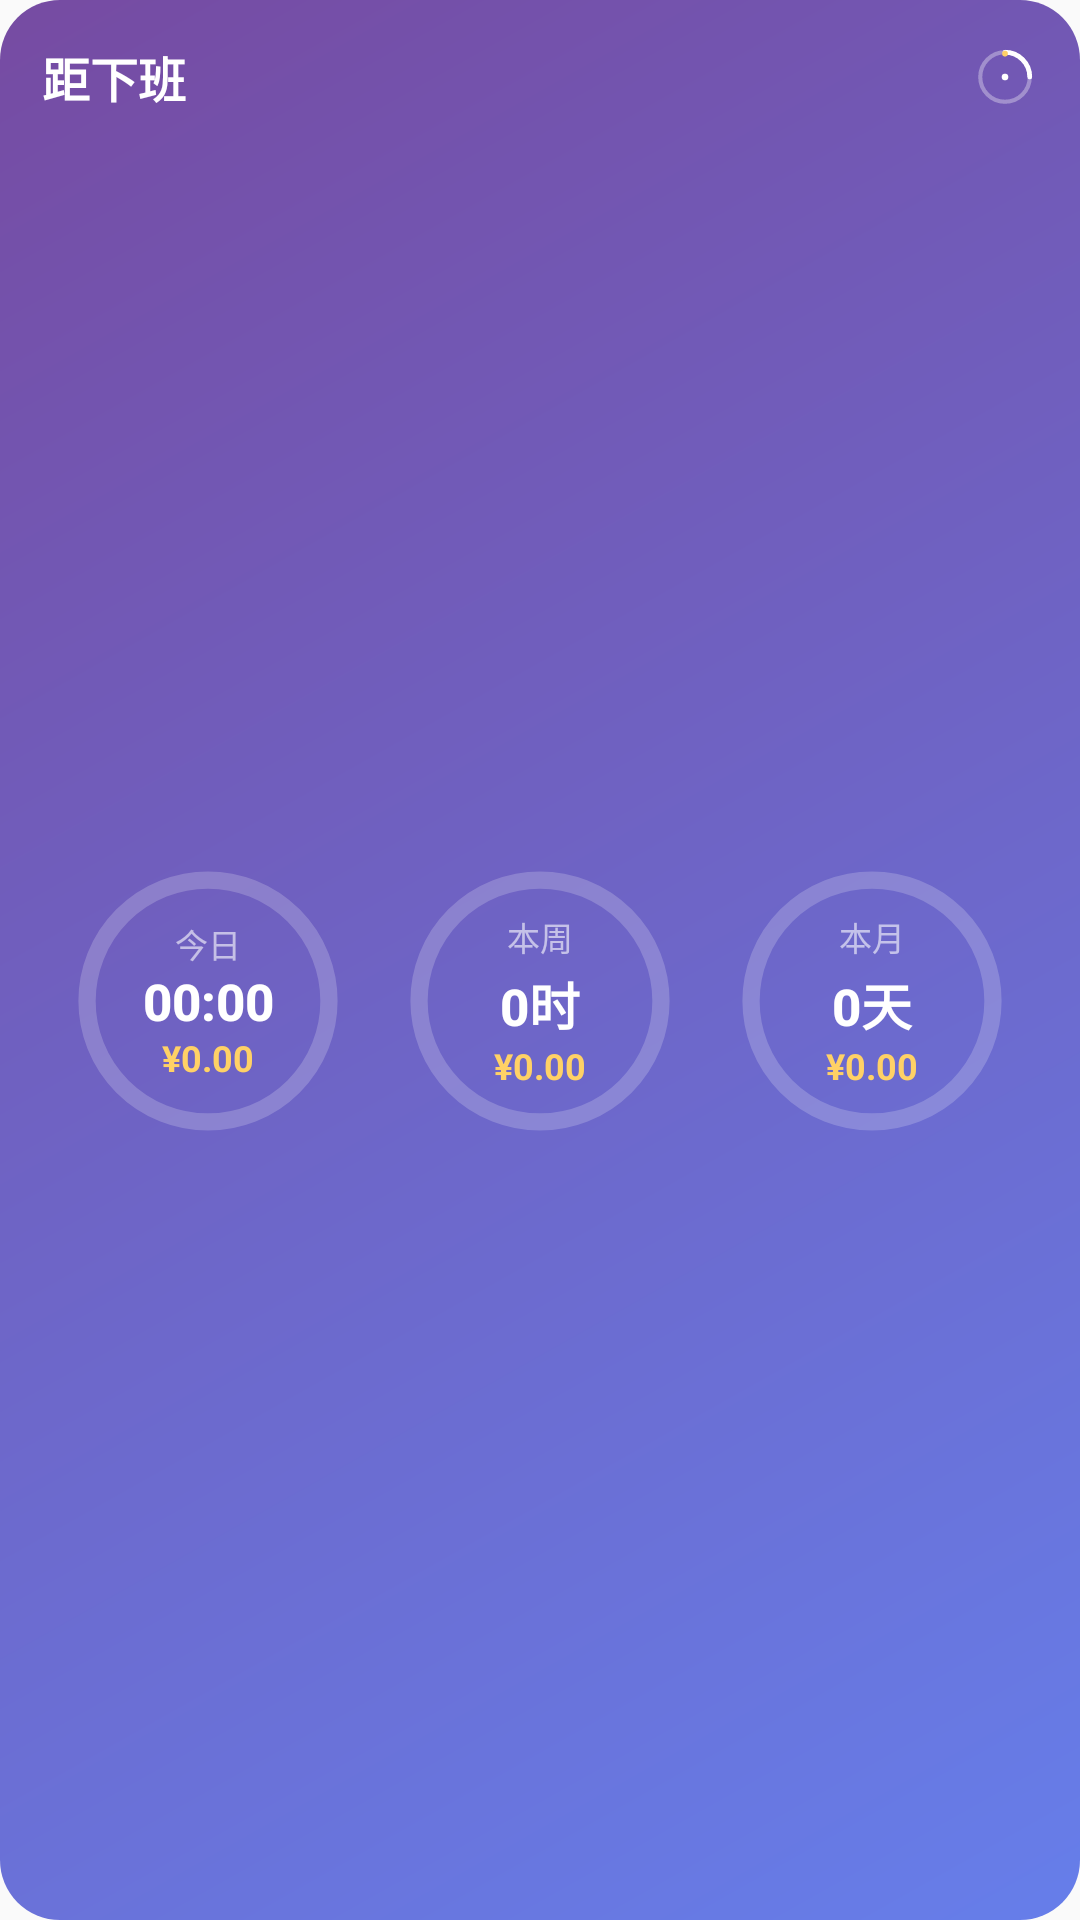

Icon bounding boxes for this 1080 x 1920 phone screenshot, format region(x1, y1, x2, y2):
widget ring: region(978, 50, 1032, 104)
